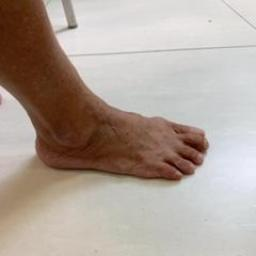Lateral View -Right Foot-: (10, 63, 230, 209)
